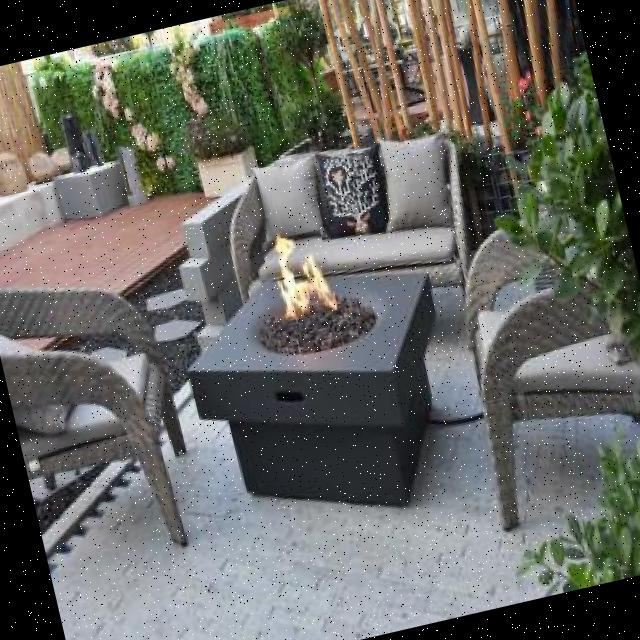fire: (260, 228, 338, 322)
